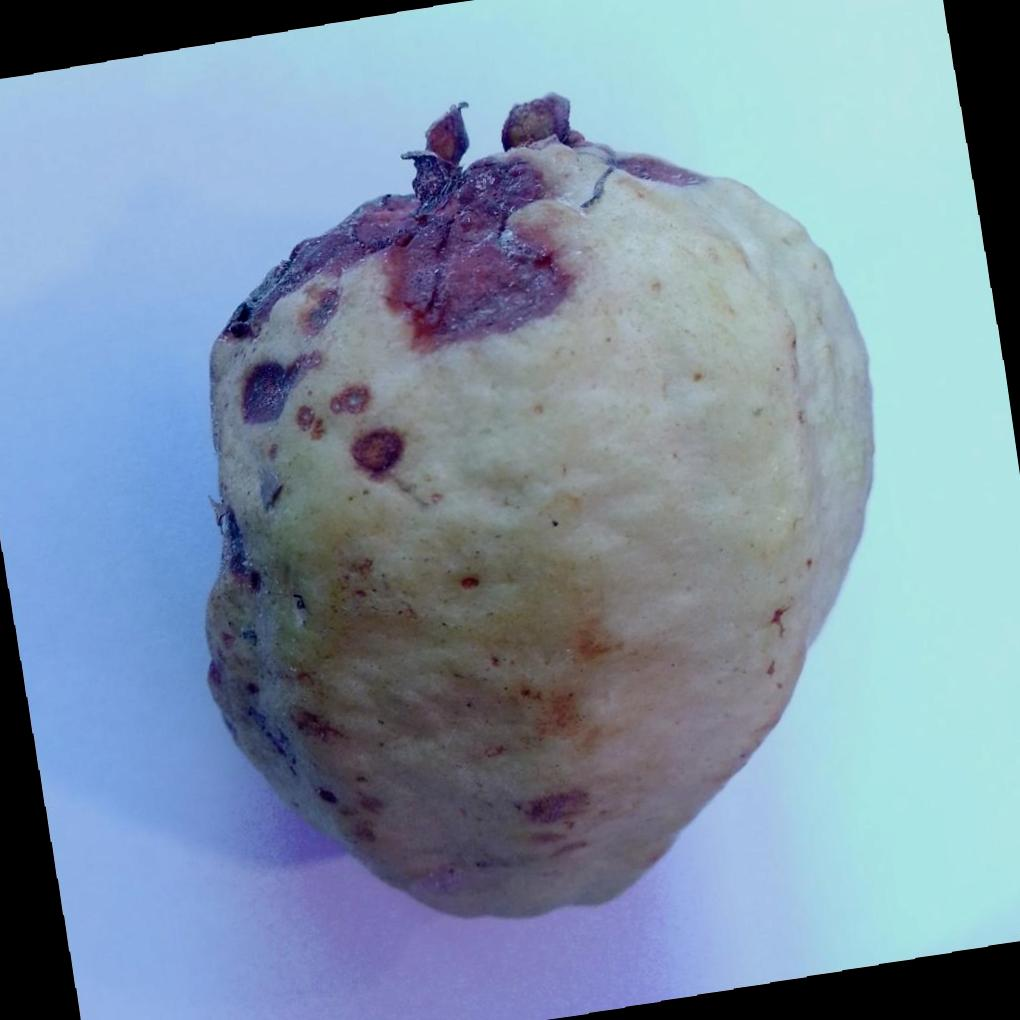FreshOrange: (202, 97, 876, 924)
